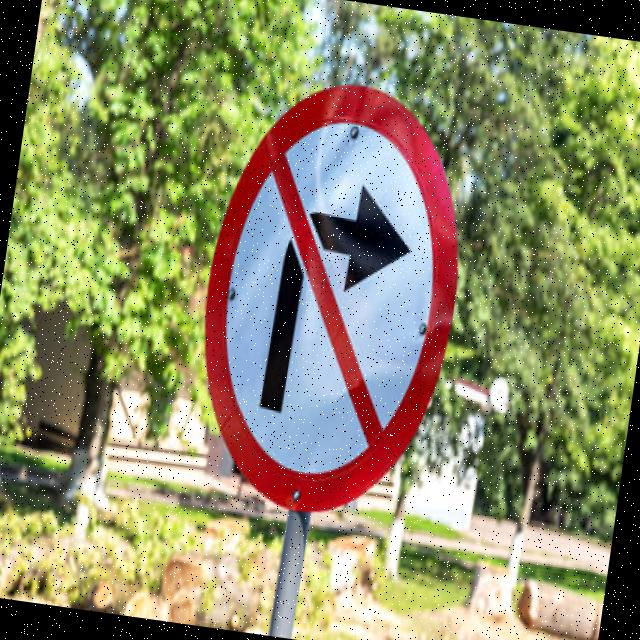do_not_turn_right: (168, 56, 482, 550)
